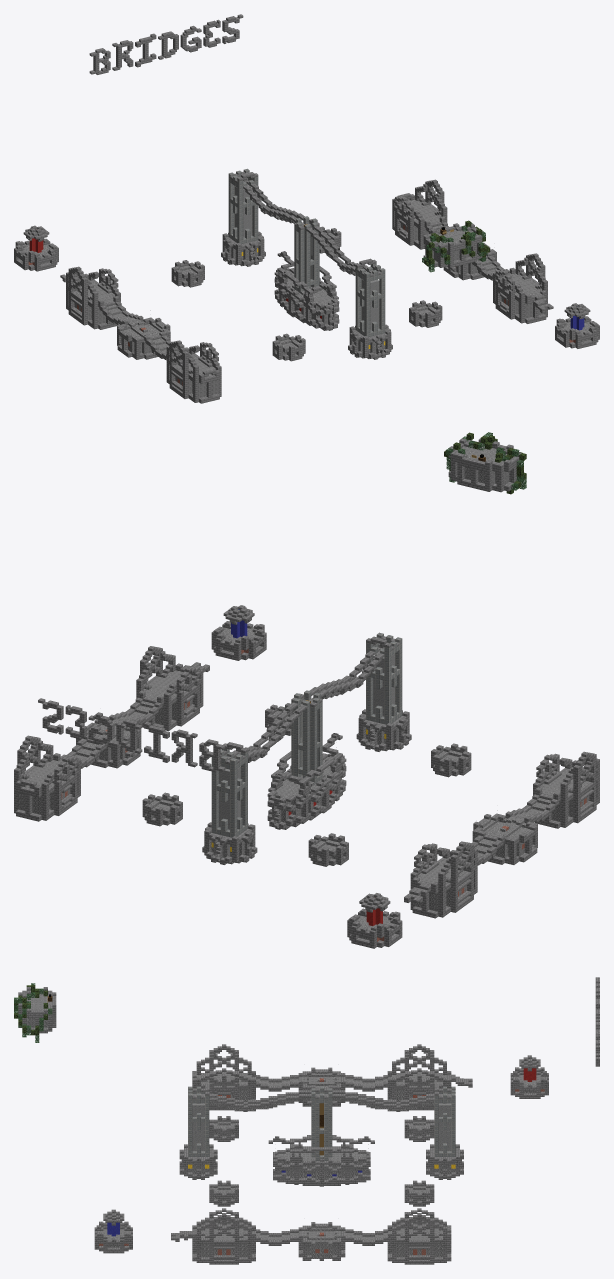
Rendered from minecraft.obj.
The picture shows the model from 3 angles, top to bottom: view 1: azimuth 30°, elevation 25°; view 2: azimuth 150°, elevation 25°; view 3: azimuth 270°, elevation 25°; orthographic projection. The views are drawn at different scales.
Size of the model in its own units: 96 by 48 by 138.
